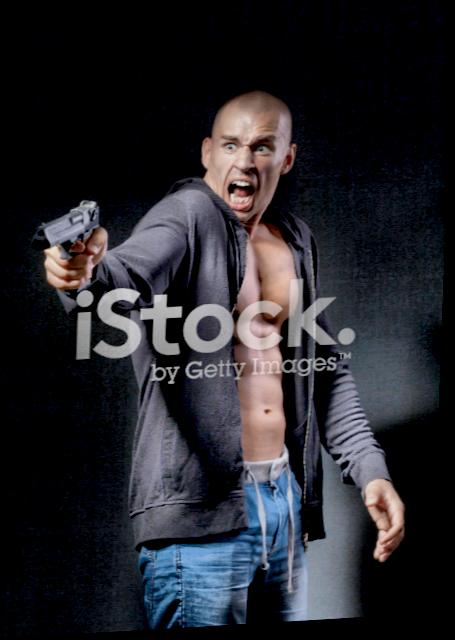pistol: (32, 199, 100, 268)
